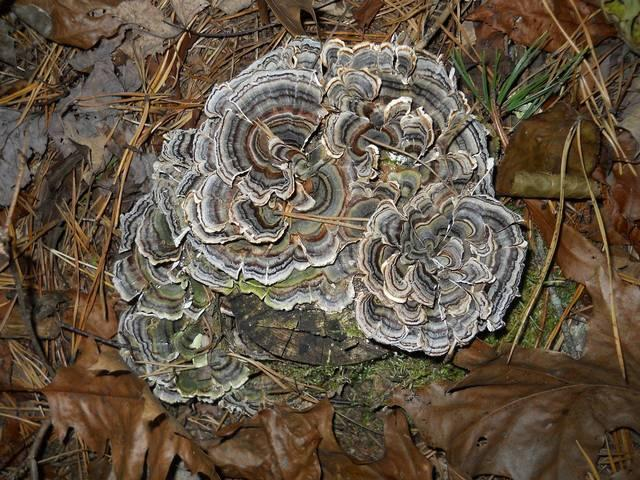poisonous_mushroom: (110, 34, 529, 409)
